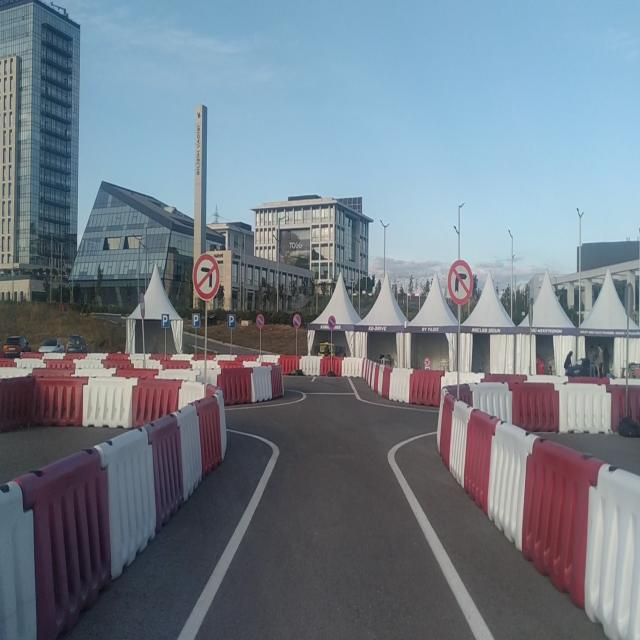forb_stopping: (292, 313, 301, 331), (256, 312, 264, 332), (328, 315, 336, 331)
